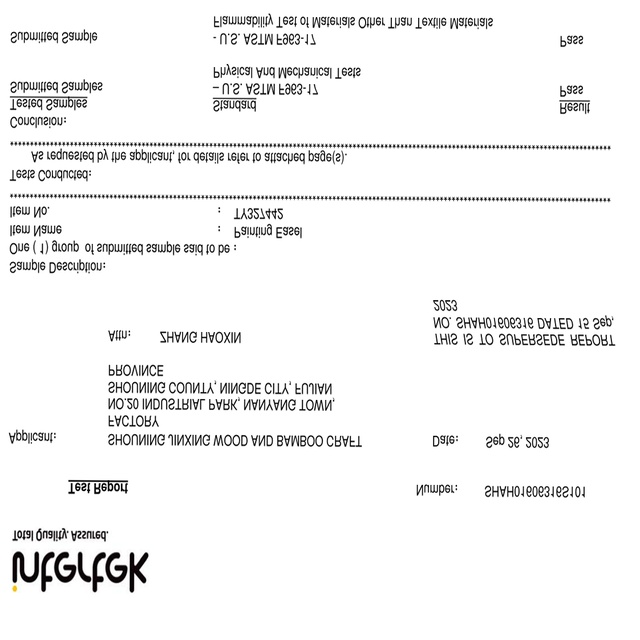intertek: (9, 544, 153, 601)
